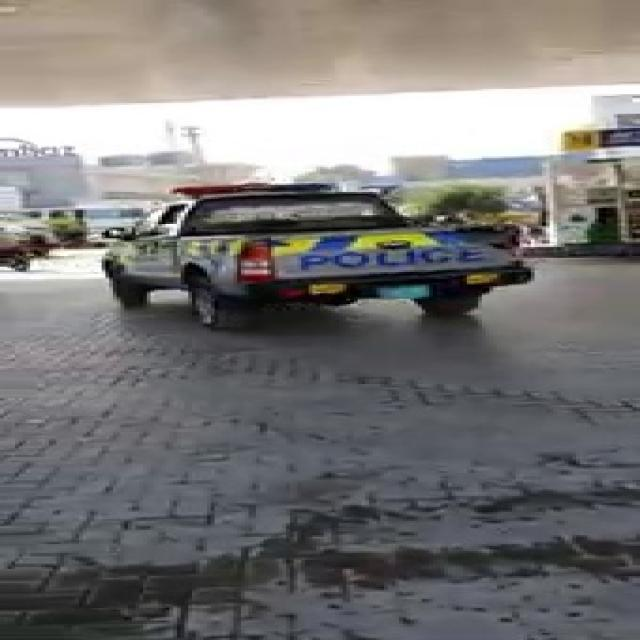police: (118, 178, 528, 320)
